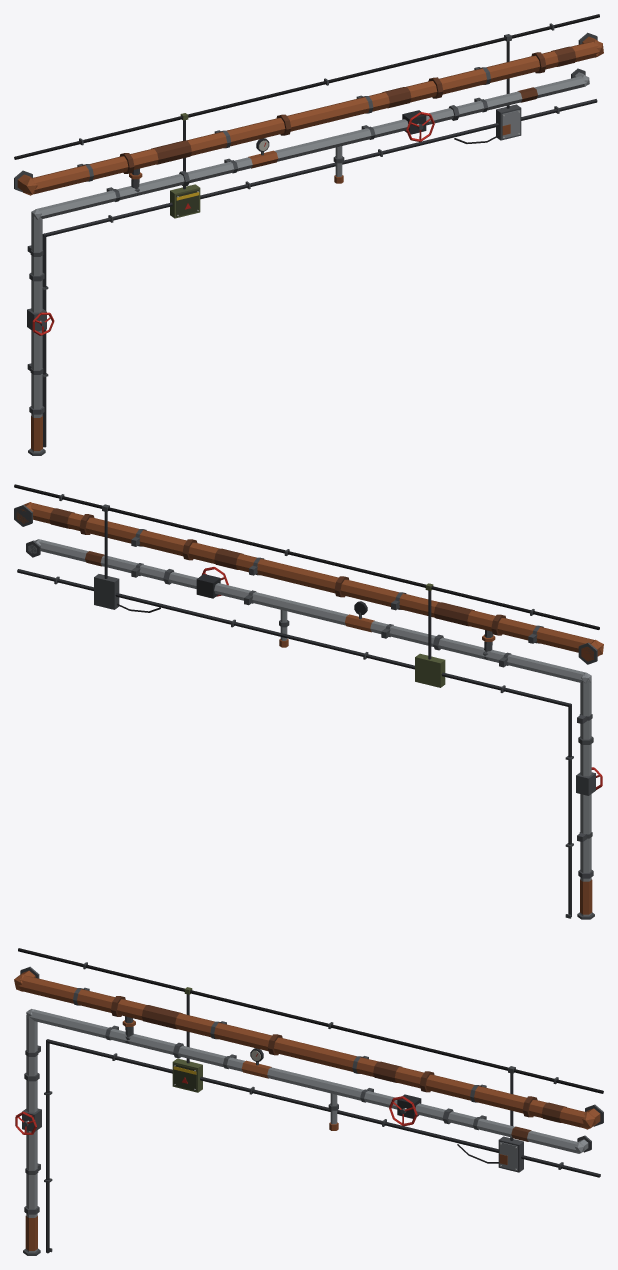
File: bunker_pipes.fbx
3 views of the same model, one above another, from view 1: azimuth 30°, elevation 25°; view 2: azimuth 150°, elevation 25°; view 3: azimuth 330°, elevation 25° (orthographic).
Parts seen in each view (by area): view 1: bunker_pipes; view 2: bunker_pipes; view 3: bunker_pipes.
Part boxes in pixels (box(x1,y1,x2,y2)): bunker_pipes: box(14, 14, 603, 455); bunker_pipes: box(14, 484, 603, 919); bunker_pipes: box(14, 948, 603, 1255).
Size of the model in its own units: 5.96 by 2.9 by 0.233.
